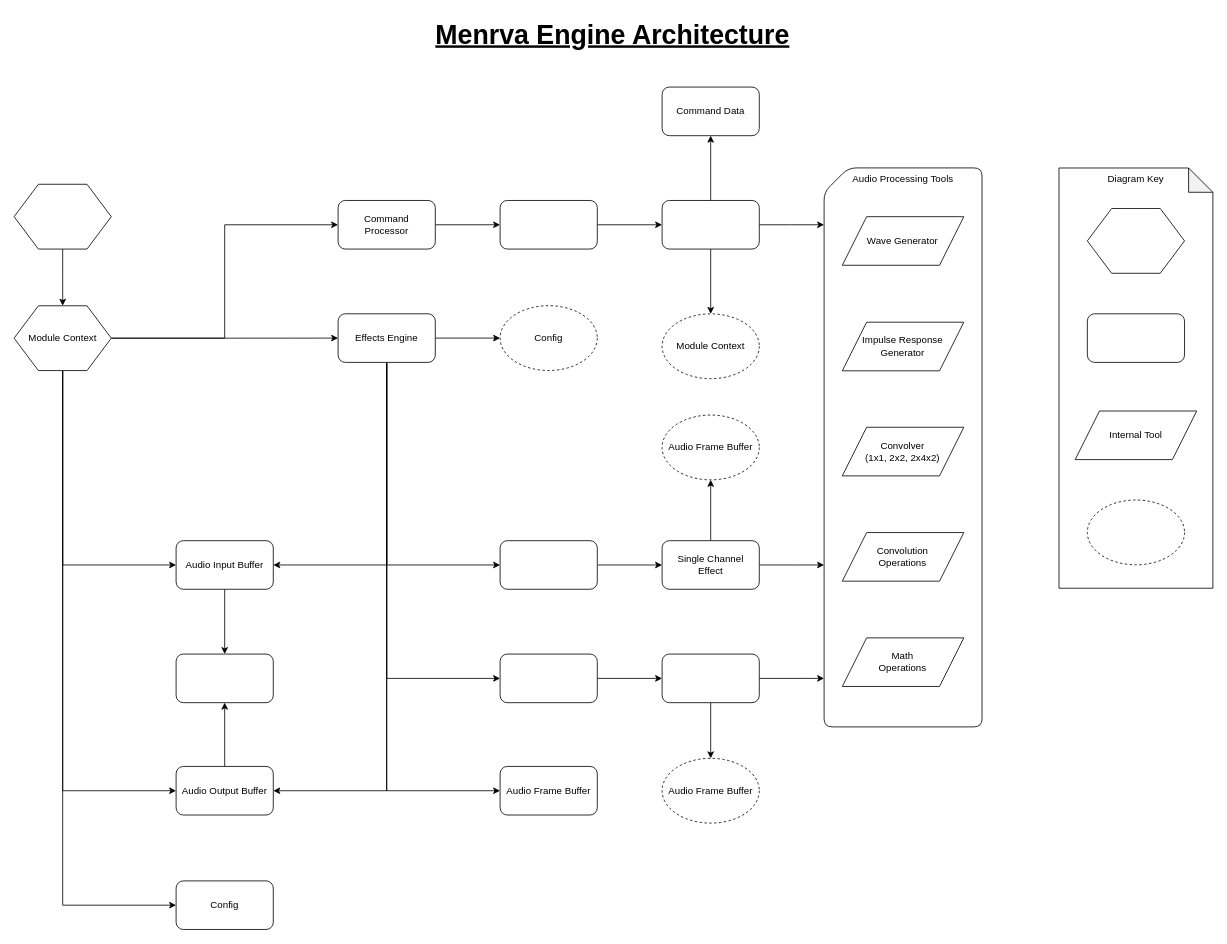
The diagram is 1227 pixels wide and 944 high, and some of its shapes have lost their labels. The centre of each missing label's shape, as x and y in pixels:
Command Handler: the point at 710,224
Command Handler Map: the point at 548,224
Conversion Buffer: the point at 224,678
Internal Interface: the point at 1136,337
Module Interface: the point at 62,216
Multi Channel Effect: the point at 710,678
Multi Channel Effects Bundle: the point at 548,678
Public Interface: the point at 1136,240
Referenced Object: the point at 1136,532
Single Channel Effects Bundle: the point at 548,564
